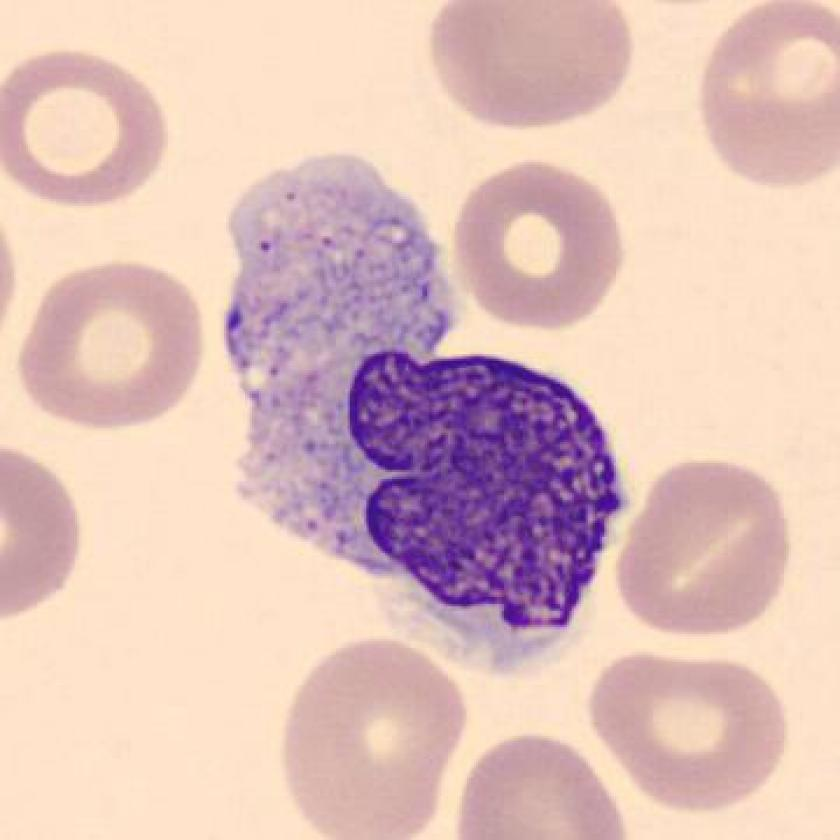monocyte: (209, 137, 638, 686)
